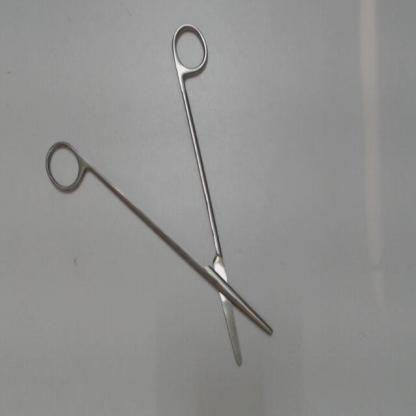9 Metzenbaum Scissors: (41, 20, 277, 373)
